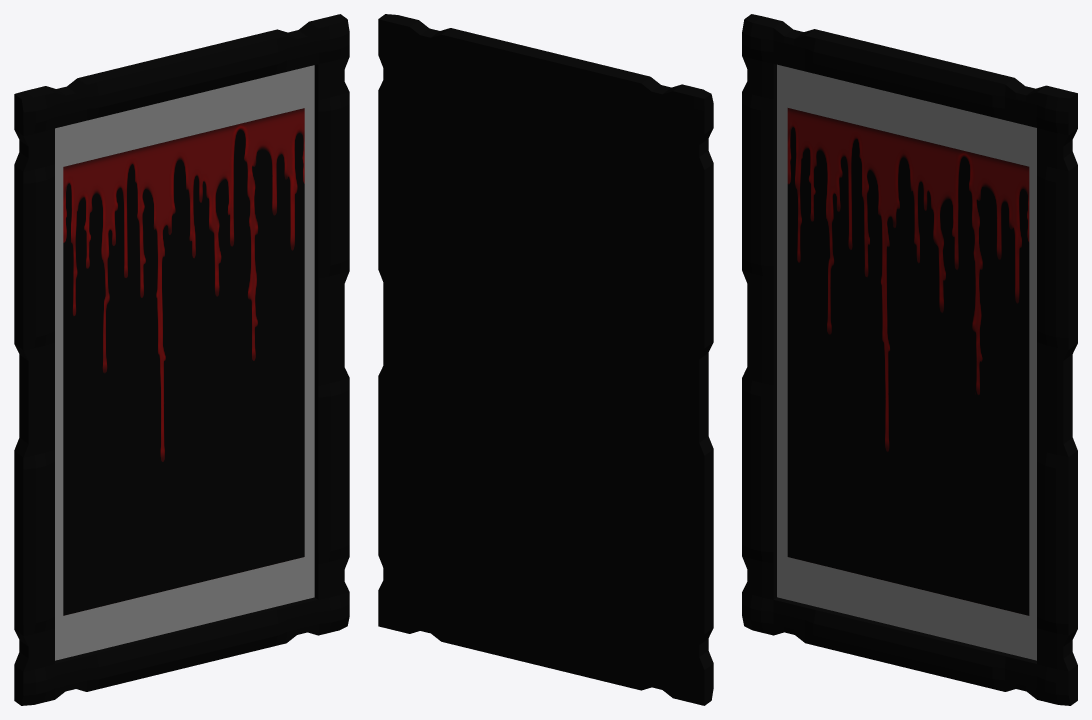
The model's file is PictureVertical.fbx.
3 renders of one model, left to right at view 1: azimuth 30°, elevation 25°; view 2: azimuth 150°, elevation 25°; view 3: azimuth 330°, elevation 25°, orthographic.
Parts seen in each view (by area): view 1: Picture, Picture Frame, Pictureframe back; view 2: Picture Frame; view 3: Picture, Picture Frame, Pictureframe back.
Boxes of the visible parts, x1=… form: Picture: x1=63, y1=108, x2=304, y2=615; Picture Frame: x1=14, y1=14, x2=349, y2=705; Pictureframe back: x1=55, y1=65, x2=314, y2=660; Picture Frame: x1=378, y1=14, x2=713, y2=705; Picture: x1=787, y1=108, x2=1029, y2=615; Picture Frame: x1=742, y1=14, x2=1077, y2=705; Pictureframe back: x1=777, y1=64, x2=1036, y2=660.
Size of the model in its own units: 95.51 by 170 by 5.76.
